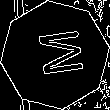M_W: (26, 29, 84, 81)
